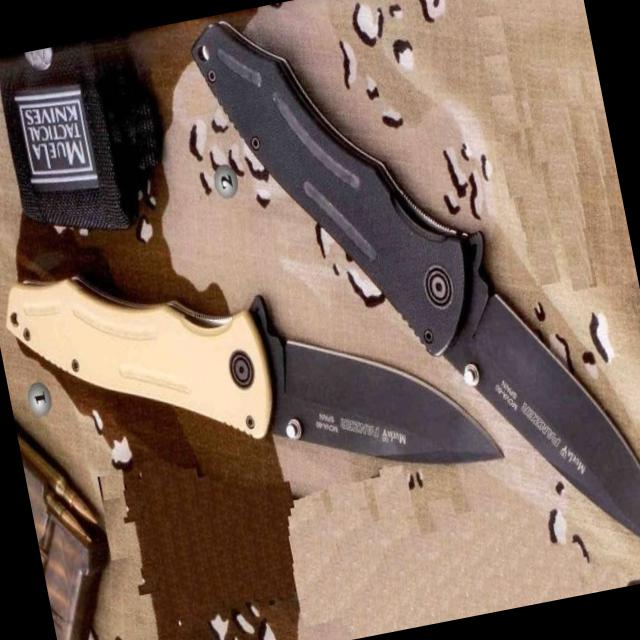knife: (183, 0, 640, 640), (1, 178, 510, 563)
